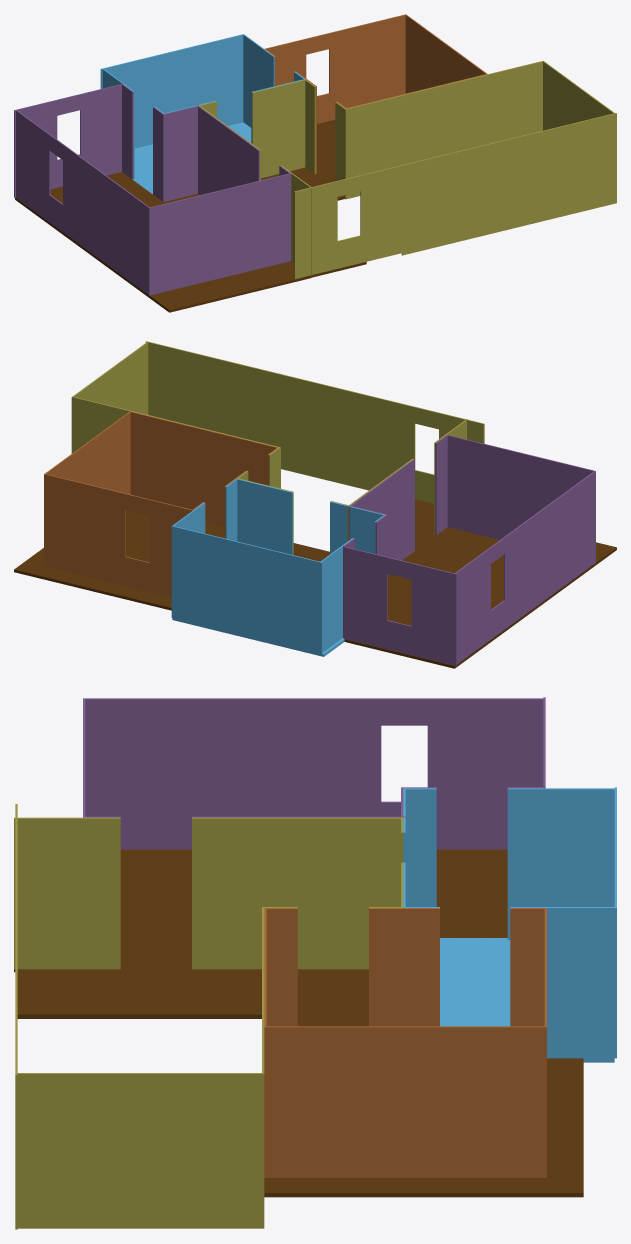
Rendered from house_upstairs_02.fbx.
3 renders of one model, top to bottom at view 1: azimuth 30°, elevation 25°; view 2: azimuth 150°, elevation 25°; view 3: azimuth 270°, elevation 25°, orthographic. The views are drawn at different scales.
Visible parts, largest first — view 1: polySurface2342; view 2: polySurface2342; view 3: polySurface2342.
Boxes of the visible parts, x1=… form: polySurface2342: x1=14, y1=14, x2=616, y2=312; polySurface2342: x1=14, y1=341, x2=616, y2=668; polySurface2342: x1=14, y1=697, x2=616, y2=1229.
Size of the model in its own units: 18.82 by 3.6 by 12.7.
